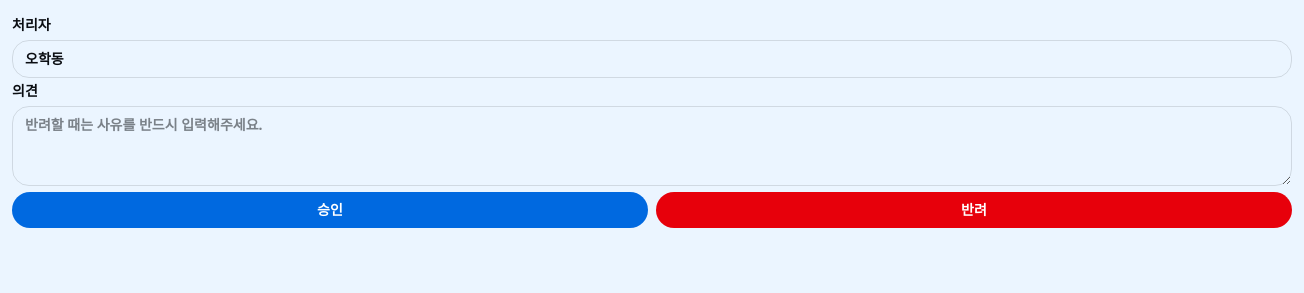
Scenario: ApprovalDecisionForm › keeps the user on the form and shows an inline error when rejection reason is missing
Click the button "반려" at {"x": 974, "y": 210}, box [656,192,1292,228]
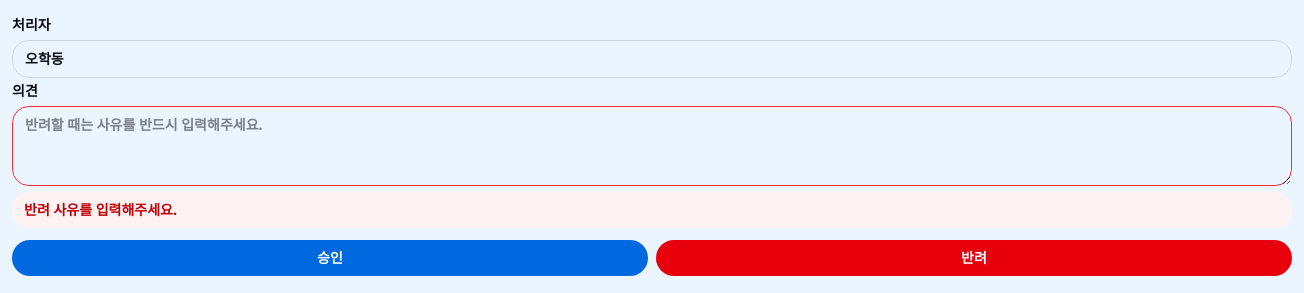
Expected: the message reads "반려 사유를 입력해주세요.", [24,200,177,219]
